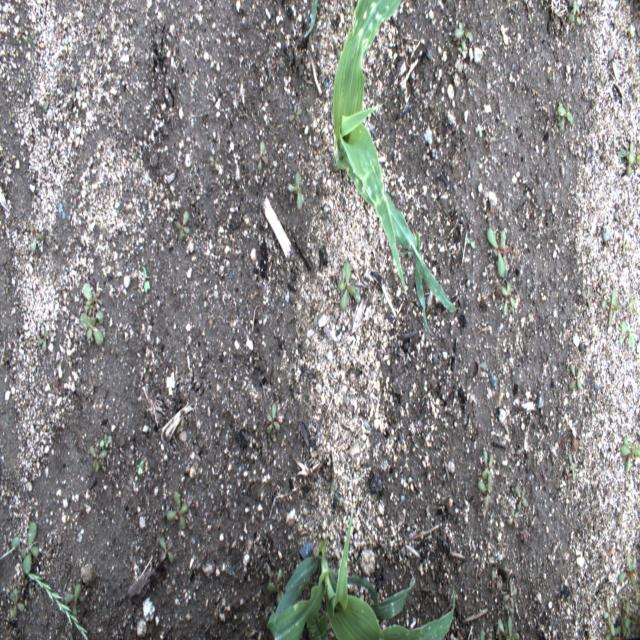crop: (331, 0, 458, 334), (266, 507, 454, 638), (303, 1, 318, 38)
weed: (28, 574, 88, 638), (600, 286, 636, 353), (336, 254, 362, 314), (487, 230, 516, 278), (13, 522, 38, 576), (165, 489, 191, 534), (78, 309, 105, 349), (550, 99, 575, 132), (66, 582, 89, 616), (616, 600, 637, 637), (287, 168, 304, 213), (619, 434, 639, 472), (453, 20, 474, 56), (617, 556, 637, 593), (476, 474, 495, 512), (620, 140, 640, 176), (265, 400, 284, 437), (478, 447, 495, 488), (602, 591, 616, 639), (81, 281, 103, 311), (26, 223, 46, 255), (170, 208, 188, 243), (267, 568, 284, 604), (88, 444, 109, 472), (329, 475, 344, 510), (501, 282, 516, 317), (568, 355, 582, 391), (255, 138, 268, 175), (502, 579, 518, 607), (567, 0, 582, 29), (160, 535, 174, 566), (10, 588, 24, 618), (514, 486, 529, 513), (626, 293, 640, 319), (340, 394, 354, 420), (141, 264, 151, 295), (97, 433, 113, 452), (43, 88, 55, 113), (568, 450, 578, 479), (497, 614, 509, 638), (37, 329, 48, 355), (580, 286, 591, 311), (15, 25, 29, 44), (563, 465, 575, 487), (508, 616, 519, 639), (618, 234, 630, 254), (288, 107, 304, 122), (314, 300, 323, 326), (509, 508, 520, 528), (208, 154, 220, 172), (484, 132, 494, 152), (137, 458, 148, 476), (66, 354, 78, 370), (70, 76, 78, 100), (268, 166, 278, 184), (490, 565, 496, 594), (486, 201, 494, 222), (96, 22, 105, 40), (578, 437, 586, 456), (146, 355, 154, 374), (564, 62, 570, 87), (476, 121, 484, 138), (0, 219, 6, 241), (503, 605, 515, 616), (466, 237, 476, 250), (613, 212, 623, 225), (8, 111, 16, 127), (478, 627, 488, 639), (72, 186, 77, 209), (618, 592, 626, 604), (5, 277, 10, 296), (5, 533, 10, 552), (498, 129, 505, 142), (322, 133, 326, 153), (268, 604, 274, 613), (380, 373, 384, 385)
